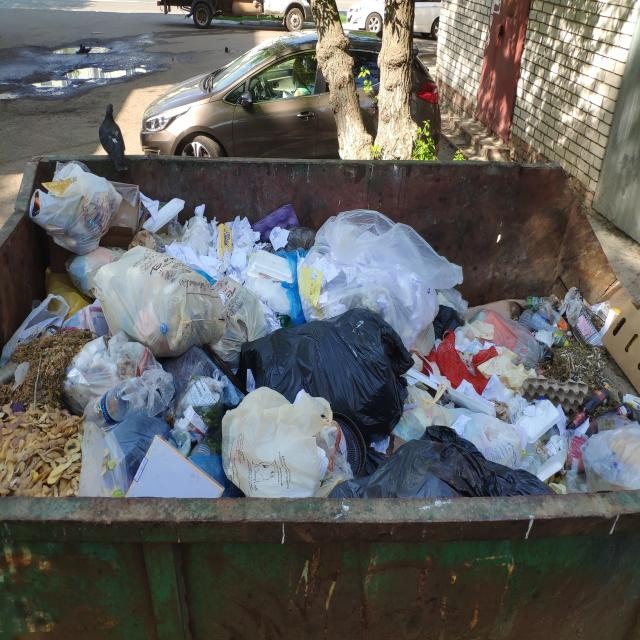lixo domiciliar: (436, 280, 610, 410), (237, 306, 410, 436), (300, 204, 463, 327), (324, 418, 559, 498), (77, 241, 203, 359), (66, 348, 181, 474), (220, 381, 342, 494), (1, 294, 99, 411), (200, 250, 302, 356), (29, 162, 123, 260), (452, 406, 573, 482), (0, 408, 85, 497), (170, 210, 259, 274), (585, 410, 640, 495), (243, 200, 317, 261), (176, 372, 226, 453), (97, 177, 151, 233), (570, 381, 610, 430)
